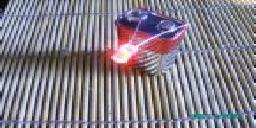LED: (109, 29, 153, 66)
